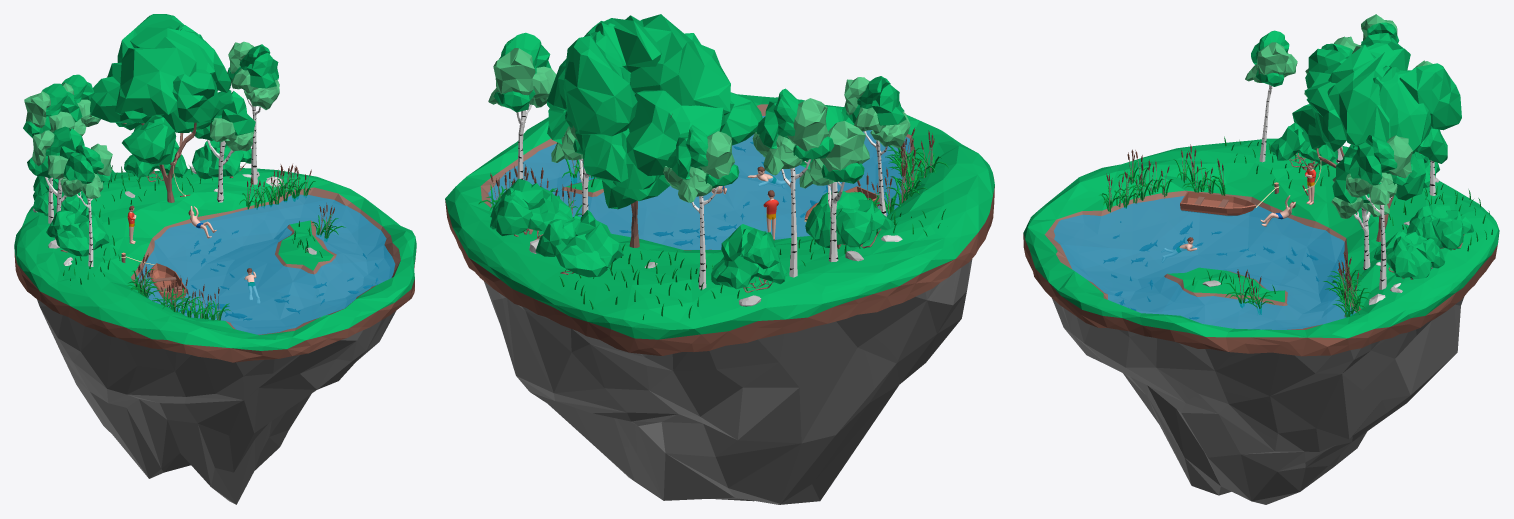
Rendered from land_69.fbx.
3 views of the same model, side by side, from view 1: azimuth 30°, elevation 25°; view 2: azimuth 150°, elevation 25°; view 3: azimuth 270°, elevation 25° (orthographic). The views are drawn at different scales.
Parts seen in each view (by area): view 1: polySurface2769, land_69.164, land_69.156, land_69.157, land_69.136, land_69.096, land_69.102, land_69.129, land_69.161, land_69.143, land_69.154, land_69.100 (+2 smaller); view 2: polySurface2769, land_69.156, land_69.164, land_69.096, land_69.100, land_69.157, land_69.129, land_69.102, land_69.159, land_69.154, land_69.161, land_69.143 (+1 smaller); view 3: polySurface2769, land_69.164, land_69.156, land_69.157, land_69.102, land_69.143, land_69.159, land_69.136, land_69.161, land_69.163, land_69.129, land_69.096.
Part boxes in pixels (<box>): polySurface2769: <box>14,168,416,504</box>; land_69.164: <box>135,194,395,334</box>; land_69.156: <box>90,14,230,202</box>; land_69.157: <box>227,41,279,184</box>; land_69.136: <box>191,90,255,202</box>; land_69.096: <box>23,83,86,223</box>; land_69.102: <box>60,143,114,266</box>; land_69.129: <box>27,126,84,239</box>; land_69.161: <box>46,207,109,256</box>; land_69.143: <box>192,140,251,179</box>; land_69.154: <box>33,176,82,216</box>; land_69.100: <box>61,74,100,126</box>; polySurface2769: <box>445,94,994,504</box>; land_69.156: <box>547,14,762,247</box>; land_69.164: <box>488,116,910,249</box>; land_69.096: <box>752,88,834,277</box>; land_69.100: <box>663,124,739,289</box>; land_69.157: <box>488,32,556,179</box>; land_69.129: <box>799,107,869,262</box>; land_69.102: <box>842,76,910,216</box>; land_69.159: <box>535,210,623,277</box>; land_69.154: <box>711,224,786,292</box>; land_69.161: <box>805,190,891,248</box>; land_69.143: <box>490,178,572,239</box>; polySurface2769: <box>1023,138,1499,504</box>; land_69.164: <box>1054,196,1355,329</box>; land_69.156: <box>1292,43,1461,241</box>; land_69.157: <box>1346,135,1417,289</box>; land_69.102: <box>1245,30,1297,162</box>; land_69.143: <box>1373,231,1444,279</box>; land_69.159: <box>1406,204,1473,249</box>; land_69.136: <box>1331,152,1389,270</box>; land_69.161: <box>1270,122,1337,170</box>; land_69.163: <box>1180,191,1256,215</box>; land_69.129: <box>1304,36,1359,163</box>; land_69.096: <box>1352,14,1402,53</box>.
Bounding box in the file's own units: 16.87 × 19.12 × 18.22.
